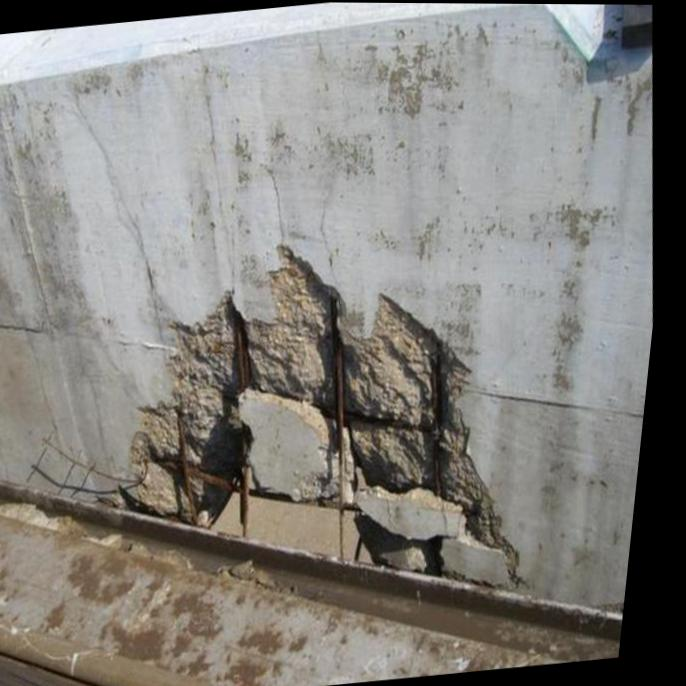damage: (129, 246, 531, 586)
